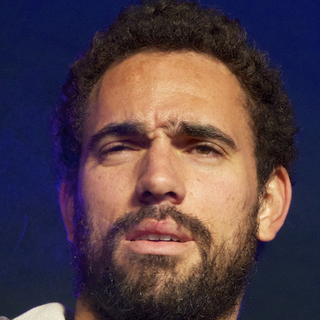eye: (181, 139, 230, 163)
